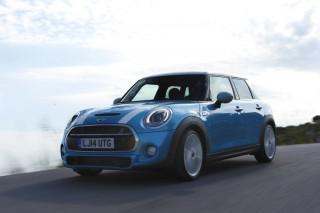mini: (92, 116, 110, 124)
